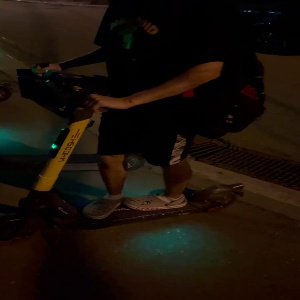human on a scooter: (1, 1, 252, 247)
